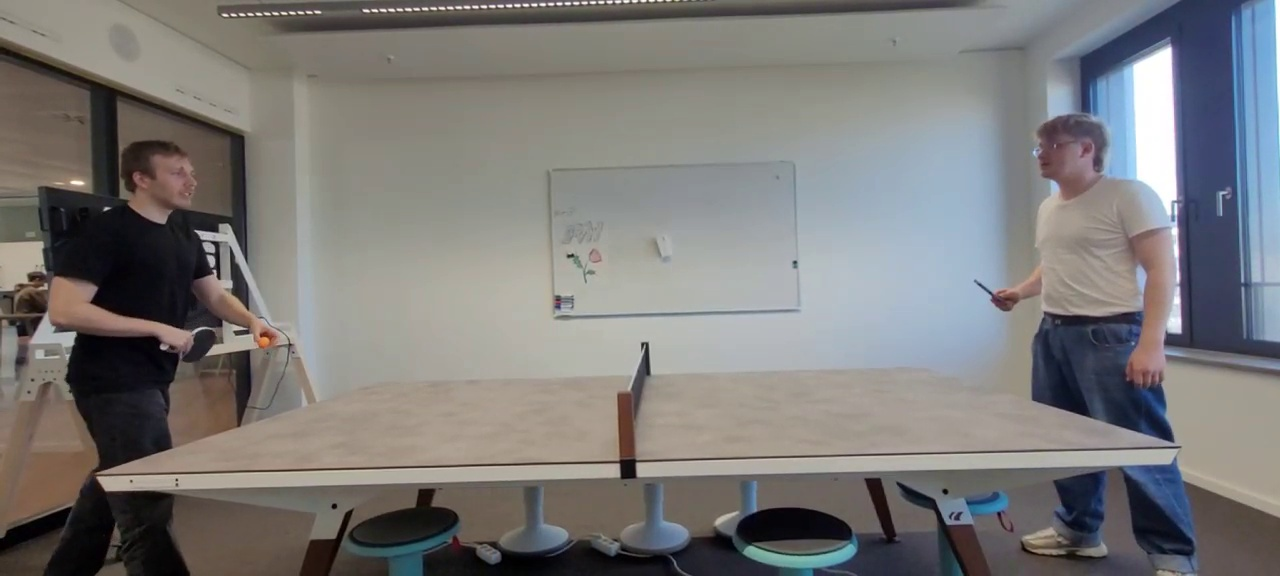plate: (95, 366, 1179, 473)
racket: (160, 326, 217, 363), (974, 279, 1002, 303)
ttball: (258, 337, 270, 347)
